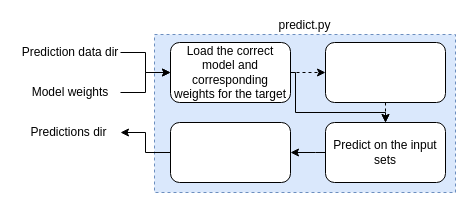
Image size: 473x210. Some labels were removed from this diagram. Here are the shapes that lost their labels. From the top down, the centre of each, then its label:
At point 385,72: "Load masks for A01 target".
At point 230,152: "Save as images and display metrics and plot".
